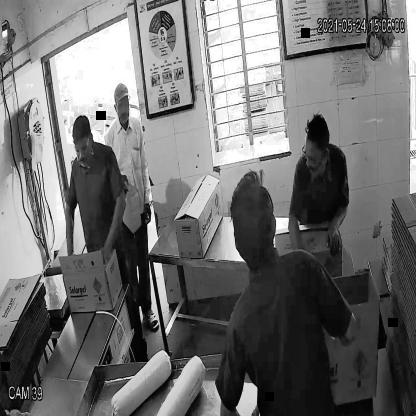goggles: (72, 138, 90, 158)
no_goggles: (114, 97, 132, 111)
